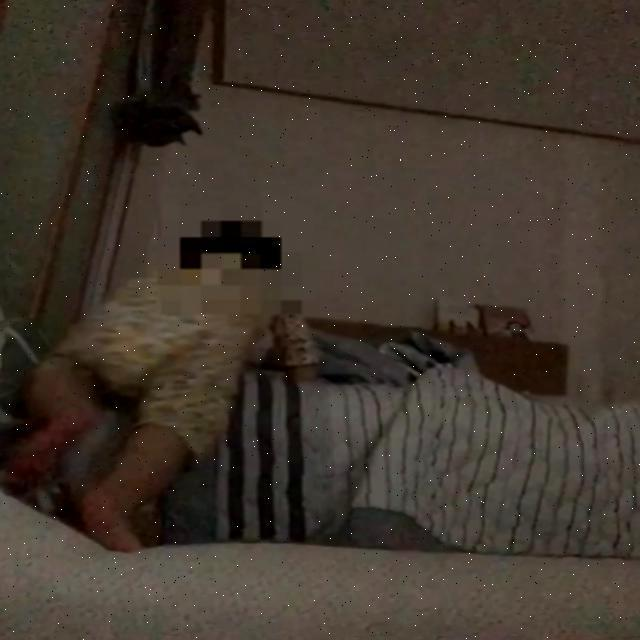child: (5, 214, 319, 556)
